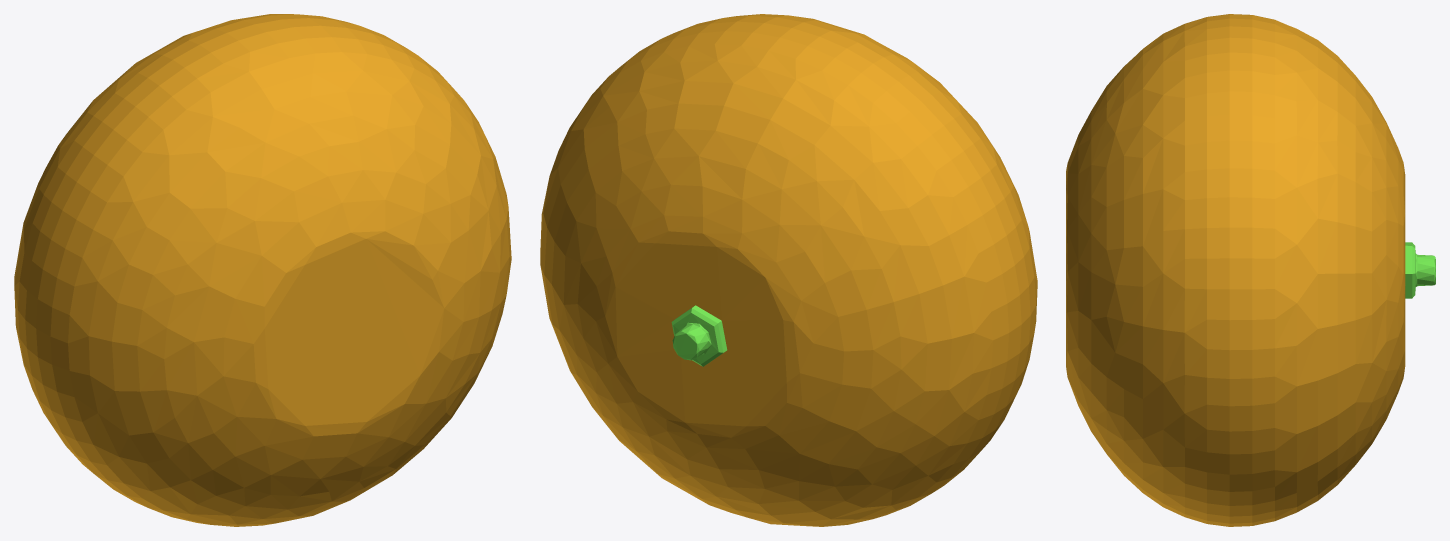
File: org.fbx
3 renders of one model, left to right at view 1: azimuth 30°, elevation 25°; view 2: azimuth 150°, elevation 25°; view 3: azimuth 270°, elevation 25°, orthographic. The views are drawn at different scales.
Visible parts, largest first — view 1: 零件4; view 2: 零件4; view 3: 零件4.
Boxes of the visible parts, bbox=[...] form: 零件4: bbox=[14, 14, 511, 526]; 零件4: bbox=[540, 14, 1037, 526]; 零件4: bbox=[1066, 14, 1435, 526].
Bounding box in the file's own units: 4997 × 4997 × 3600.
